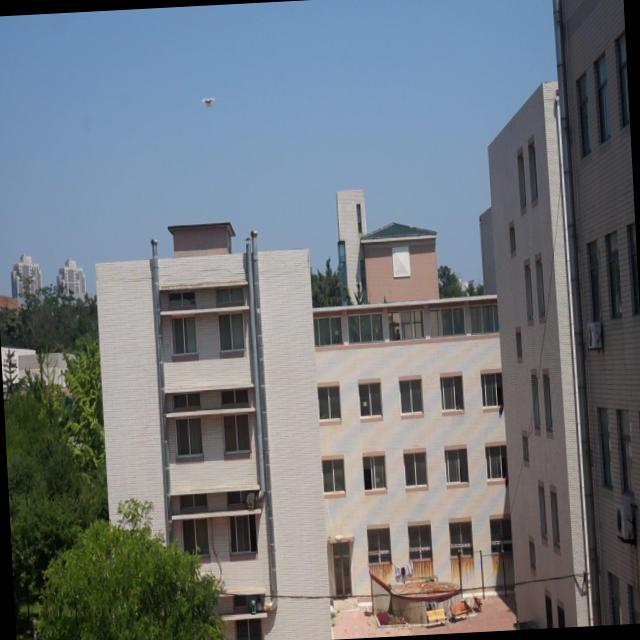drone: (200, 92, 217, 110)
